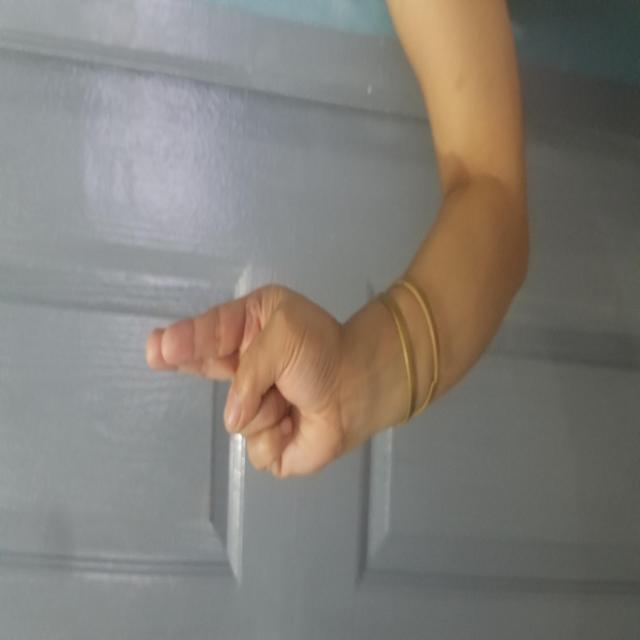R: (160, 146, 357, 345)
